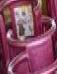cylinder: (0, 1, 57, 74)
